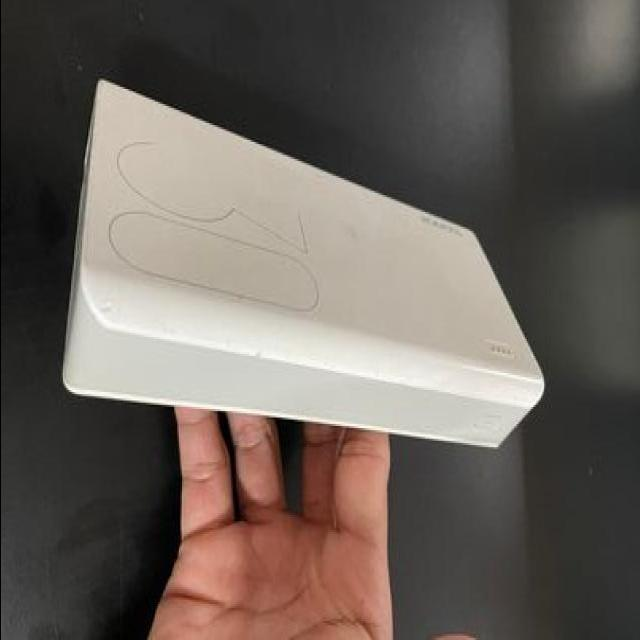portable-charger: (56, 67, 546, 464)
